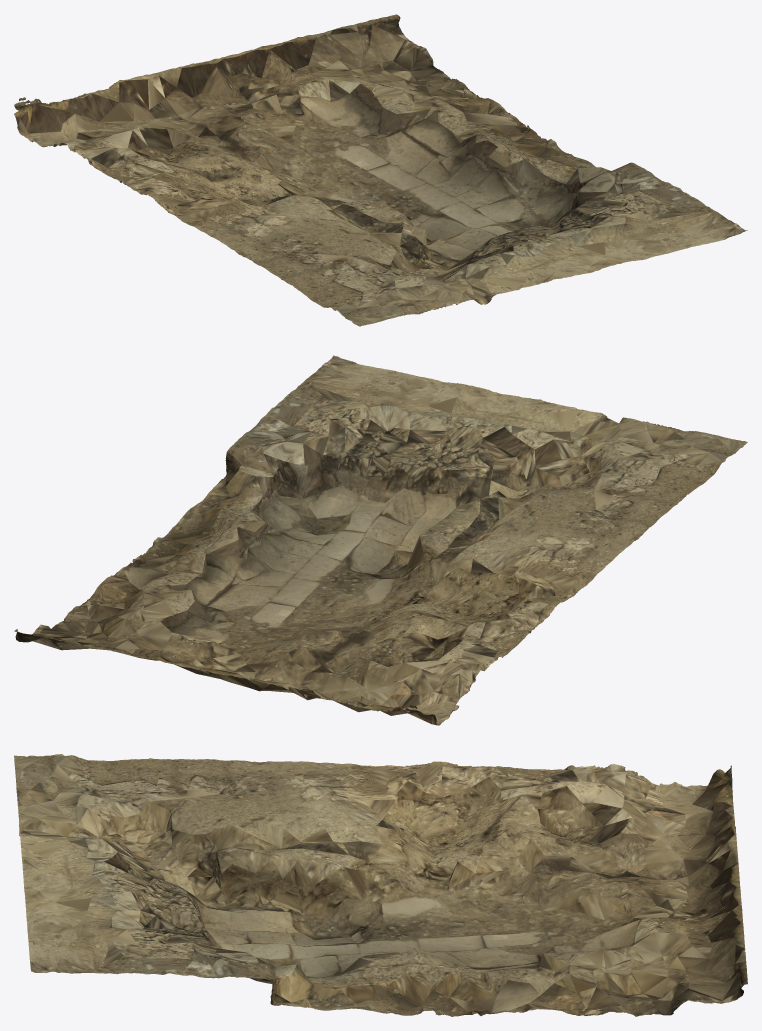
File: lowpolyAmbienteCentral.fbx
The picture shows the model from 3 angles, top to bottom: view 1: azimuth 30°, elevation 25°; view 2: azimuth 150°, elevation 25°; view 3: azimuth 270°, elevation 25°; orthographic projection. The views are drawn at different scales.
Parts seen in each view (by area): view 1: Model; view 2: Model; view 3: Model.
Part boxes in pixels (<box>): Model: <box>14,14,747,326</box>; Model: <box>14,355,747,725</box>; Model: <box>14,754,747,1016</box>.
Bounding box in the file's own units: 7.66 × 1.22 × 10.83.
